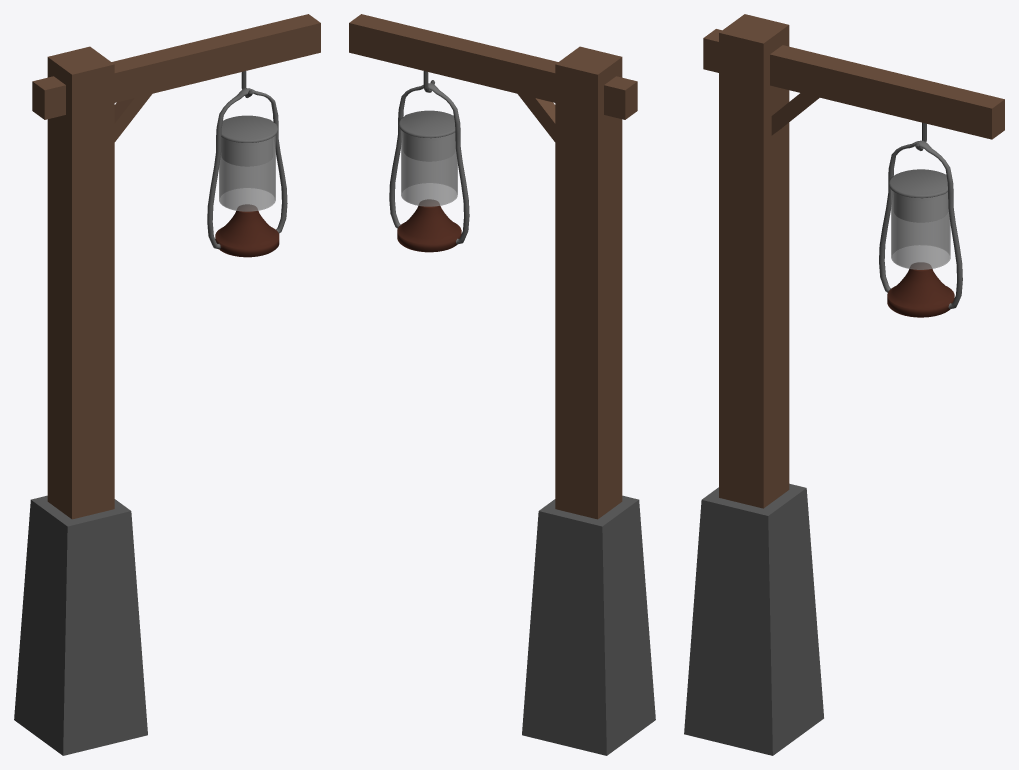
Rendered from wooden_lamp_post.dae.
3 views of the same model, side by side, from view 1: azimuth 30°, elevation 25°; view 2: azimuth 150°, elevation 25°; view 3: azimuth 330°, elevation 25° (orthographic). The views are drawn at different scales.
Parts seen in each view (by area): view 1: Cube, Cube_001, Cylinder; view 2: Cube, Cube_001, Cylinder; view 3: Cube, Cube_001, Cylinder.
Part boxes in pixels (x1=…): Cube: x1=32, y1=14, x2=320, y2=519; Cube_001: x1=14, y1=495, x2=147, y2=755; Cylinder: x1=207, y1=88, x2=287, y2=257; Cube: x1=349, y1=14, x2=637, y2=519; Cube_001: x1=522, y1=495, x2=655, y2=755; Cylinder: x1=389, y1=83, x2=469, y2=252; Cube: x1=703, y1=14, x2=1004, y2=508; Cube_001: x1=684, y1=483, x2=823, y2=755; Cylinder: x1=879, y1=140, x2=962, y2=317.
Size of the model in its own units: 1.3 by 0.4 by 3.
